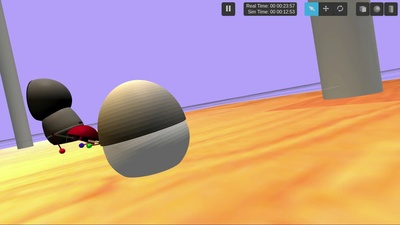mira_robot: (98, 80, 190, 178)
